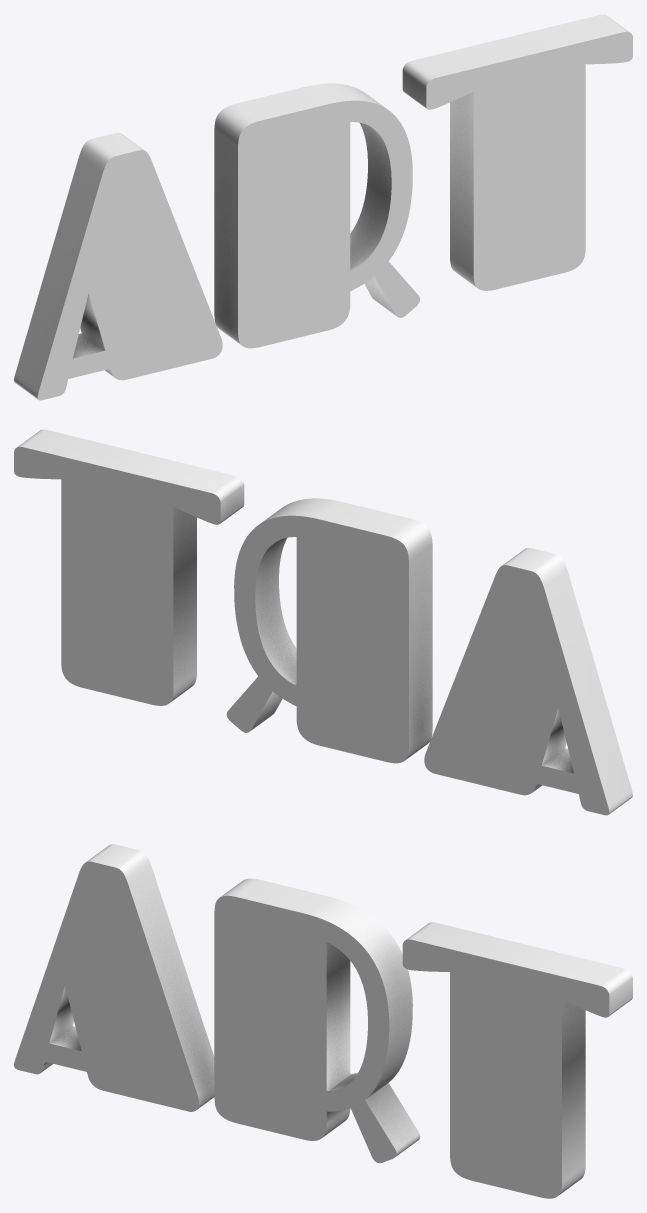
The model's file is art.glb.
3 views of the same model, one above another, from view 1: azimuth 30°, elevation 25°; view 2: azimuth 150°, elevation 25°; view 3: azimuth 330°, elevation 25° (orthographic).
Visible parts, largest first — view 1: art.001; view 2: art.001; view 3: art.001.
Boxes of the visible parts, left/top/right/bottom form: art.001: left=14, top=14, right=632, bottom=400; art.001: left=14, top=429, right=632, bottom=815; art.001: left=14, top=844, right=632, bottom=1198.
Size of the model in its own units: 1.46 by 0.5409 by 0.1.
Materials: 1 (1 with a texture image).
